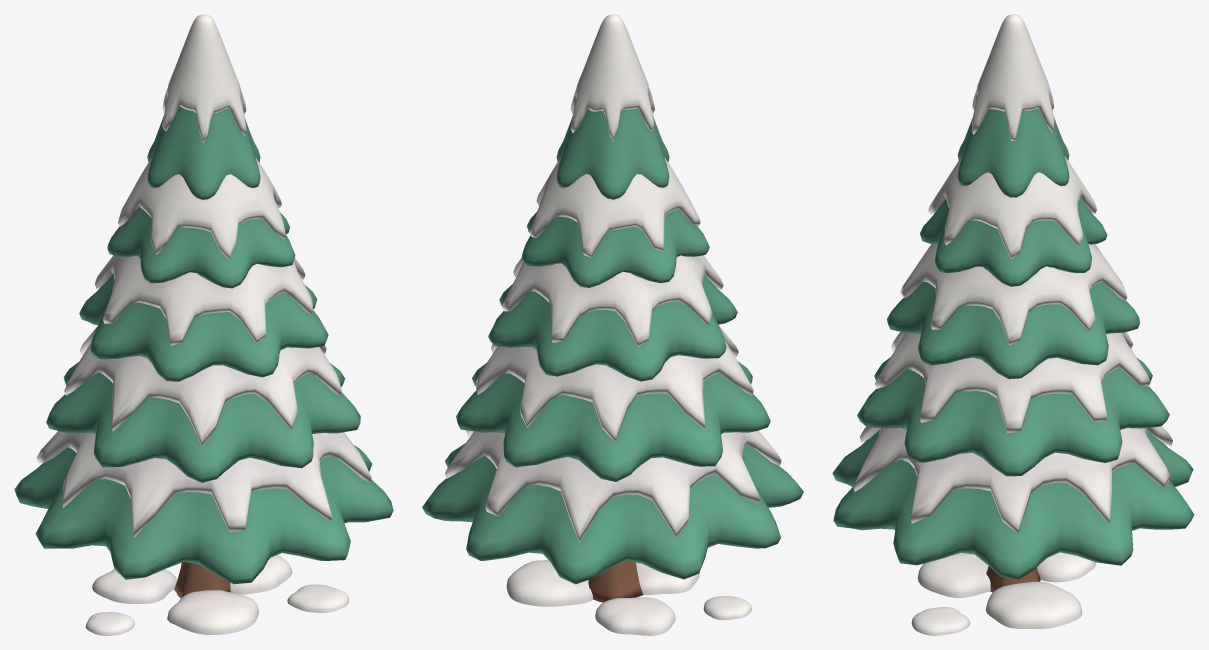
File: snowy-pine-tree.glb
3 renders of one model, left to right at view 1: azimuth 30°, elevation 25°; view 2: azimuth 150°, elevation 25°; view 3: azimuth 270°, elevation 25°, orthographic.
Visible parts, largest first — view 1: snowy-pine-tree_body; view 2: snowy-pine-tree_body; view 3: snowy-pine-tree_body.
Boxes of the visible parts, x1,y1,x2,y2 form: snowy-pine-tree_body: (14,14,393,635); snowy-pine-tree_body: (422,14,803,635); snowy-pine-tree_body: (832,14,1194,635).
Size of the model in its own units: 3.45 by 5.76 by 3.3.
1 material, 1 textured.
